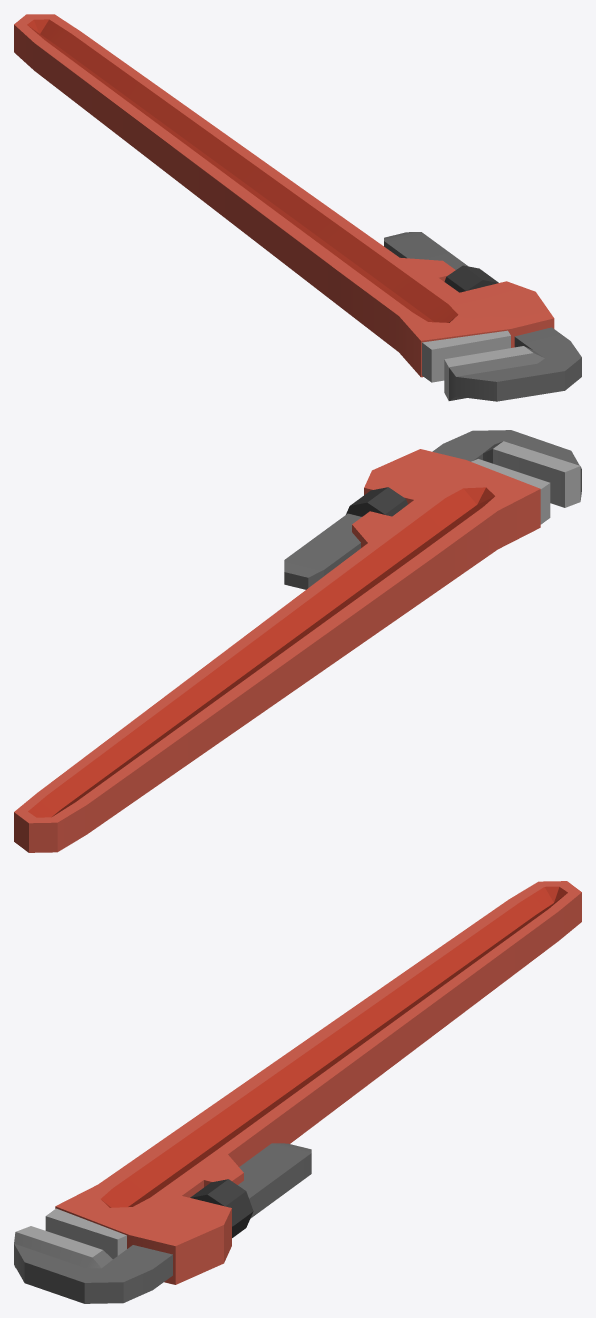
Rendered from PipeWrench_3D.glb.
3 views of the same model, one above another, from view 1: azimuth 30°, elevation 25°; view 2: azimuth 150°, elevation 25°; view 3: azimuth 330°, elevation 25° (orthographic). The views are drawn at different scales.
Parts seen in each view (by area): view 1: PipeWrench; view 2: PipeWrench; view 3: PipeWrench.
Boxes of the visible parts, x1=… form: PipeWrench: x1=14, y1=14, x2=581, y2=401; PipeWrench: x1=14, y1=430, x2=581, y2=852; PipeWrench: x1=14, y1=881, x2=581, y2=1303.
Size of the model in its own units: 0.2244 by 0.0745 by 1.36.
1 material, 1 textured.
